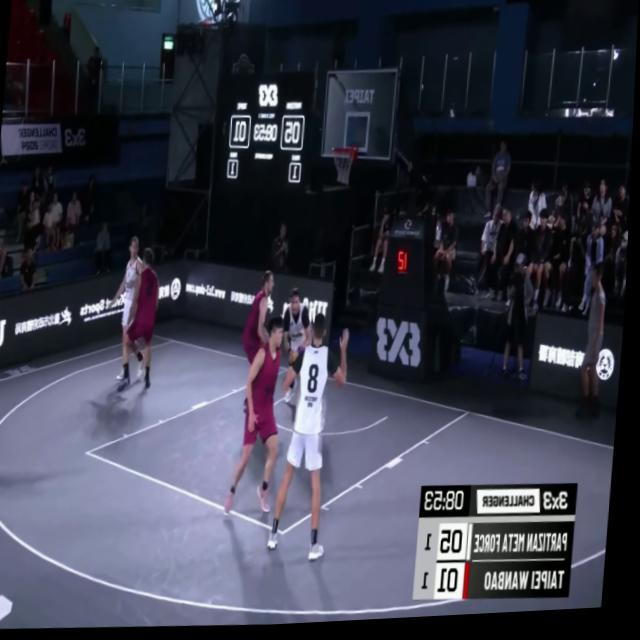ball: (292, 347, 309, 374)
hoop: (330, 145, 361, 194)
player: (269, 312, 356, 567), (225, 317, 292, 526), (119, 246, 164, 396), (111, 242, 152, 386), (274, 292, 319, 421), (242, 269, 281, 414)
